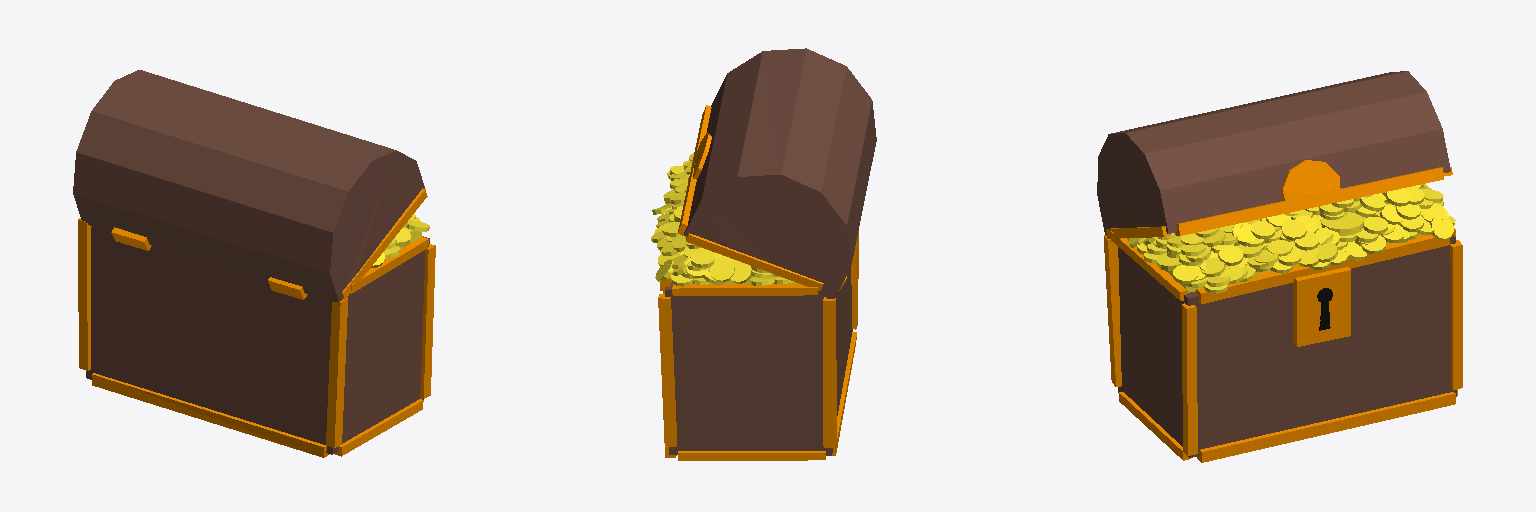
File: tresor.obj
3 renders of one model, left to right at view 1: azimuth 30°, elevation 25°; view 2: azimuth 150°, elevation 25°; view 3: azimuth 270°, elevation 25°, orthographic.
Parts seen in each view (by area): view 1: group[number redacted], group[number redacted], group[number redacted], group[number redacted], group[number redacted], group[number redacted], group[number redacted], group[number redacted], group[number redacted]; view 2: group[number redacted], group[number redacted], group[number redacted], group[number redacted], group[number redacted], group[number redacted], group[number redacted], group[number redacted], group[number redacted], group[number redacted]; view 3: group[number redacted], group[number redacted], group[number redacted], group[number redacted], group[number redacted], group[number redacted], group[number redacted], group[number redacted], group[number redacted], group[number redacted], group[number redacted], group[number redacted] (+2 smaller).
Part boxes in pixels (x1,y1,x2,y2): group[number redacted]: (73,70,424,301); group[number redacted]: (86,226,429,454); group[number redacted]: (92,373,329,457); group[number redacted]: (326,298,347,447); group[number redacted]: (78,218,91,370); group[number redacted]: (420,244,435,398); group[number redacted]: (335,399,423,456); group[number redacted]: (342,188,427,299); group[number redacted]: (350,236,428,293); group[number redacted]: (684,48,876,298); group[number redacted]: (665,268,852,455); group[number redacted]: (823,297,836,447); group[number redacted]: (658,294,676,446); group[number redacted]: (672,284,817,295); group[number redacted]: (678,451,825,460); group[number redacted]: (686,233,823,290); group[number redacted]: (678,105,711,236); group[number redacted]: (832,332,856,455); group[number redacted]: (851,231,858,329); group[number redacted]: (1118,234,1456,457); group[number redacted]: (1097,71,1450,235); group[number redacted]: (1293,267,1350,346); group[number redacted]: (1197,392,1455,462); group[number redacted]: (1175,167,1443,235); group[number redacted]: (1196,235,1450,303); group[number redacted]: (1182,303,1197,455); group[number redacted]: (1450,240,1462,389); group[number redacted]: (1104,235,1121,386); group[number redacted]: (1281,160,1340,201); group[number redacted]: (1111,231,1187,300); group[number redacted]: (1119,392,1190,460).
Bounding box in the file's own units: 1.2 × 1.27 × 1.43.